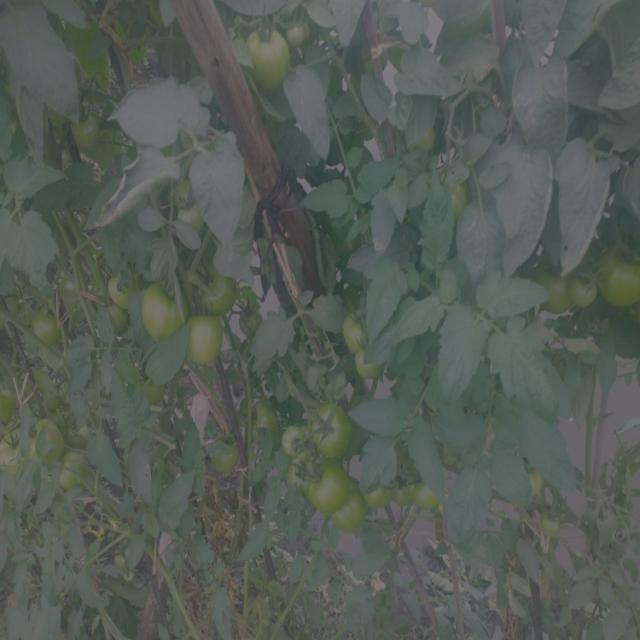tomato: (294, 463, 364, 540), (4, 427, 59, 473), (139, 285, 183, 340), (601, 255, 640, 317), (184, 319, 229, 367), (199, 266, 237, 313), (321, 404, 354, 455), (106, 271, 136, 327), (255, 32, 284, 87), (131, 372, 177, 402), (177, 183, 202, 237), (212, 443, 247, 481), (279, 422, 312, 459), (69, 116, 99, 154), (27, 310, 58, 346), (345, 312, 371, 353), (409, 122, 441, 155), (540, 276, 567, 314), (65, 456, 93, 492), (252, 398, 272, 442), (356, 357, 388, 384), (574, 274, 596, 311), (523, 466, 547, 495), (1, 391, 21, 425), (450, 179, 470, 212), (541, 513, 565, 540), (422, 480, 441, 511), (373, 483, 391, 513), (395, 480, 412, 511), (242, 311, 262, 334), (286, 27, 310, 42)
